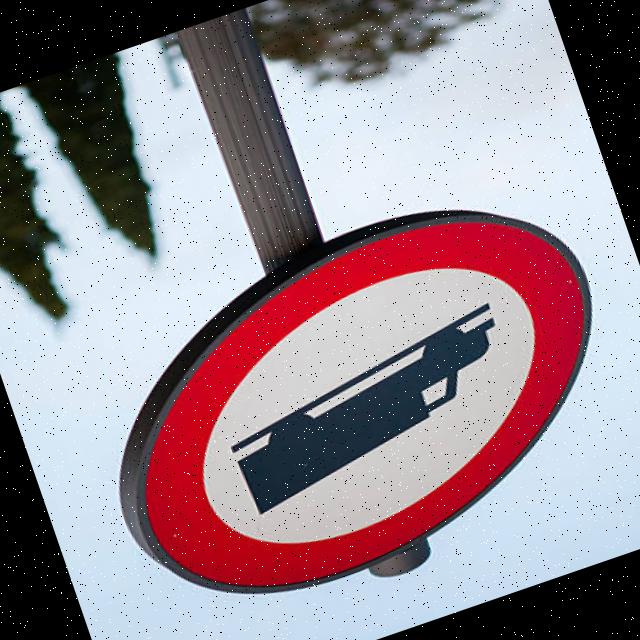do_not_enter: (63, 160, 640, 640)
